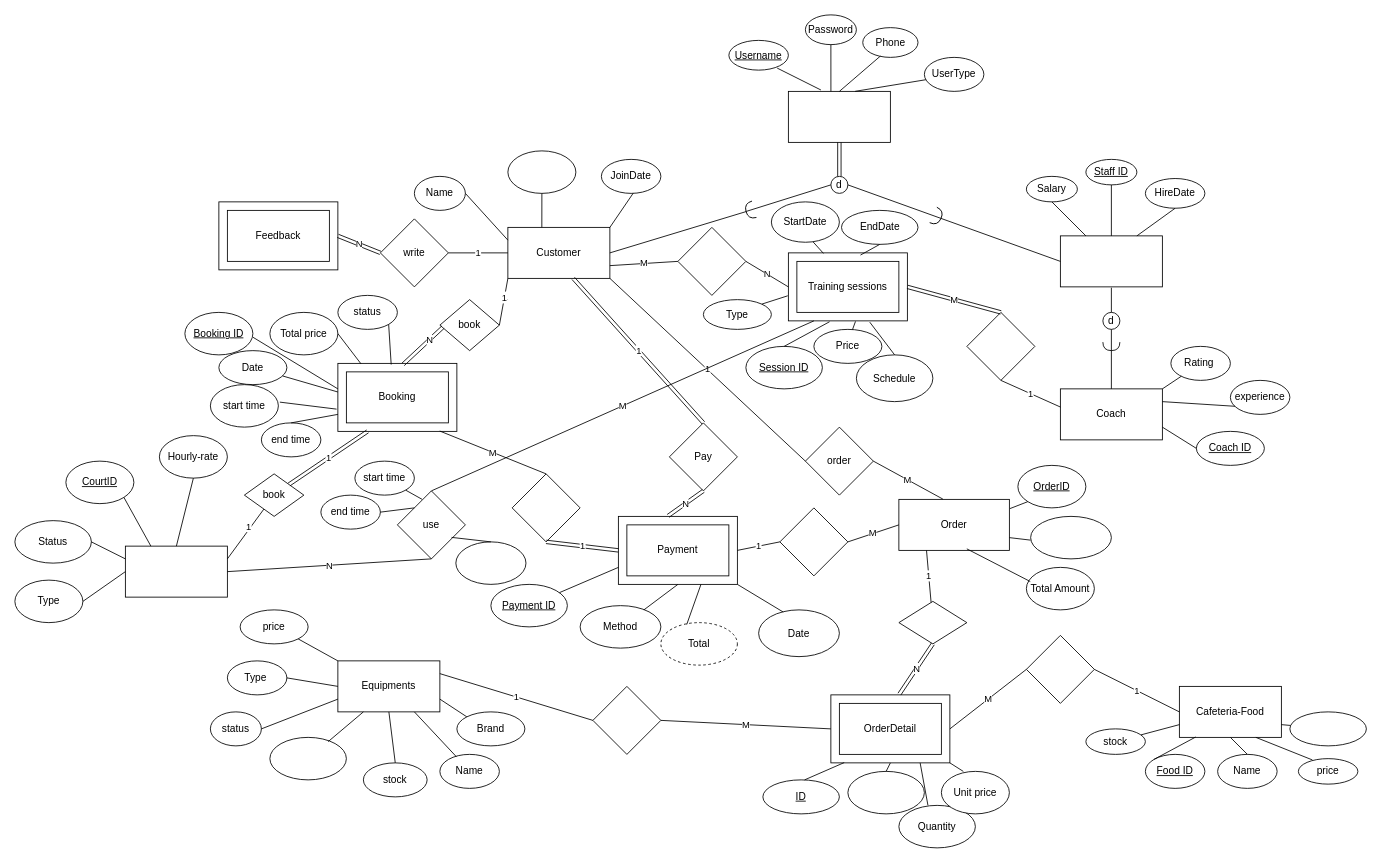
Image size: 1381x863. Some labels were removed from this diagram. The shapes that lost their labels are listed below. From the top down, each one's centre as x and y in pixels, then its label:
the point at 839,116: User
the point at 541,171: CustomerID
the point at 711,261: enrol
the point at 1111,261: Staff
the point at 1000,346: teach
the point at 545,507: court bill
the point at 813,541: order bill
the point at 1070,537: Order Date
the point at 176,571: Court
the point at 490,562: day use
the point at 932,622: details
the point at 1060,669: order-food
the point at 626,720: rent
the point at 1327,728: category
the point at 307,758: Equip-ID
the point at 885,792: ItemType
